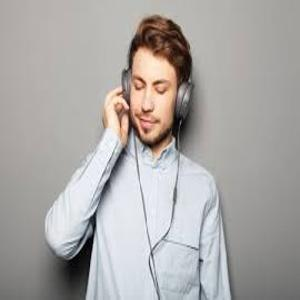Headphones: (119, 16, 196, 122)
